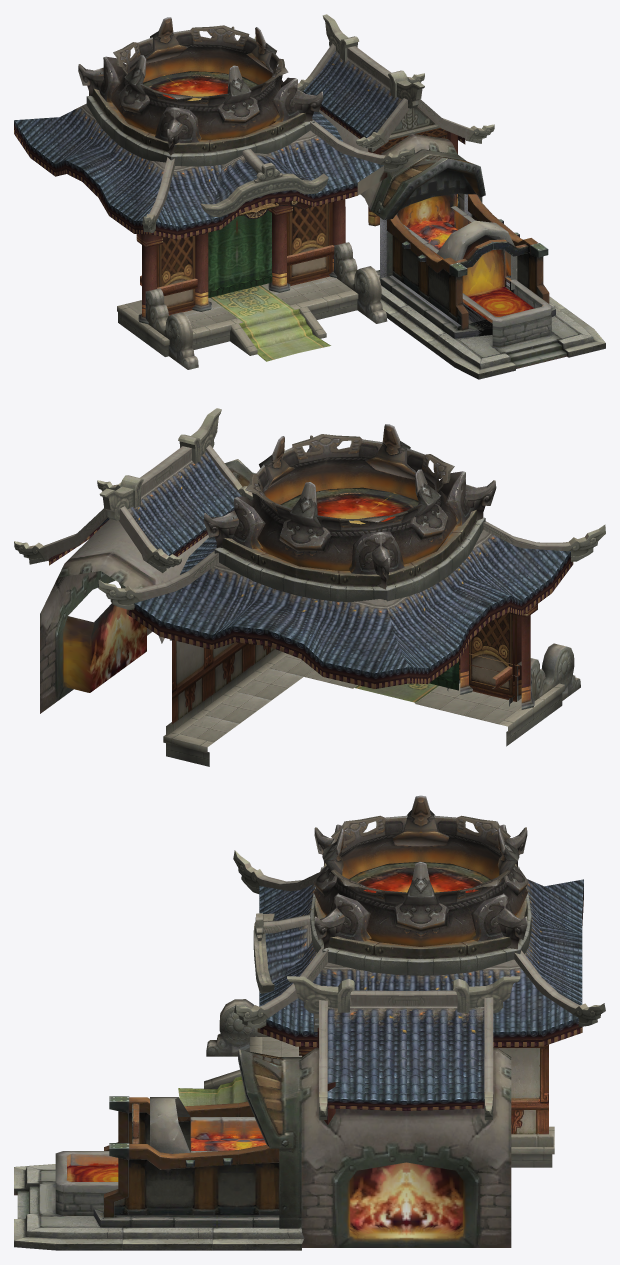
Rendered from cj_luoyang_jianzhu04_55_14_6903out.fbx.
The picture shows the model from 3 angles, top to bottom: view 1: azimuth 30°, elevation 25°; view 2: azimuth 150°, elevation 25°; view 3: azimuth 270°, elevation 25°; orthographic projection. The views are drawn at different scales.
Parts seen in each view (by area): view 1: 0001_cj_luoyang_jianzhu04, 0000_cj_luoyang_jianzhu04; view 2: 0000_cj_luoyang_jianzhu04, 0001_cj_luoyang_jianzhu04; view 3: 0001_cj_luoyang_jianzhu04, 0000_cj_luoyang_jianzhu04.
Part boxes in pixels (box(x1,y1,x2,y2)): 0001_cj_luoyang_jianzhu04: box(78, 17, 605, 379); 0000_cj_luoyang_jianzhu04: box(14, 14, 494, 356); 0000_cj_luoyang_jianzhu04: box(14, 408, 605, 766); 0001_cj_luoyang_jianzhu04: box(40, 424, 580, 713); 0001_cj_luoyang_jianzhu04: box(14, 795, 531, 1250); 0000_cj_luoyang_jianzhu04: box(204, 850, 605, 1167).
Size of the model in its own units: 12.1 by 7.27 by 13.42.
